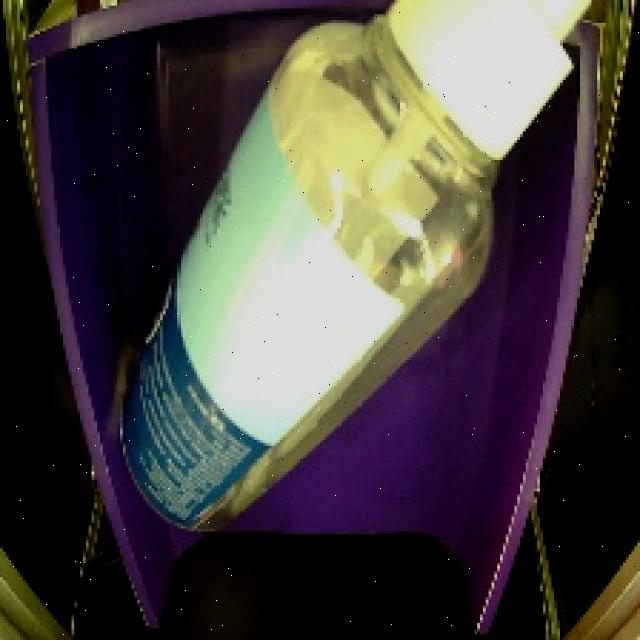plastic: (75, 0, 615, 550)
